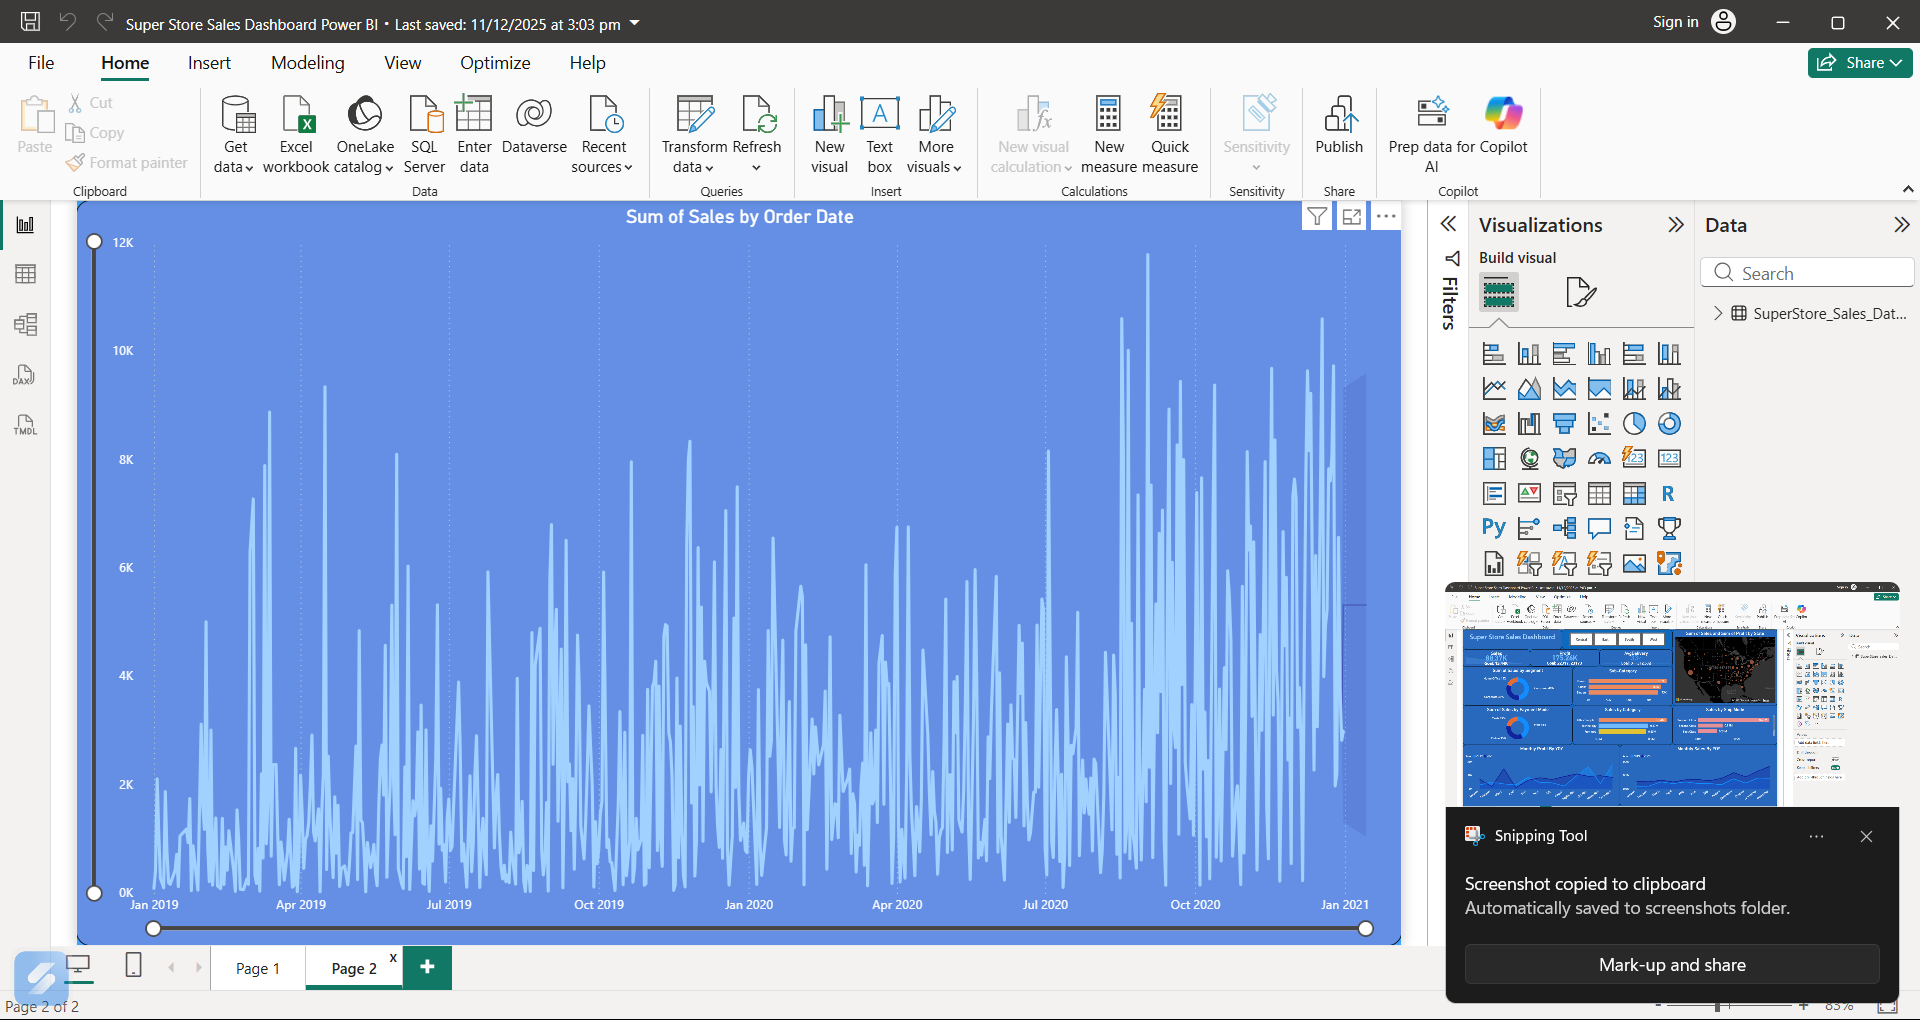

What the dashboard file says about the page in this screenshot:
{"tool":"powerbi","page":{"name":"Page 2","canvas":[1280,720],"ordinal":1},"visuals":[{"type":"lineChart","fields":{"Y":["Sum(SuperStore_Sales_Dataset.Sales)"],"Category":["SuperStore_Sales_Dataset.Order Date"]},"box":[0,0,1280,720],"z":1000}]}

Visuals, with their boxes on the page's 1280x720 design canvas (x1, y1, x2, y2). These are canvas units, not pixel positions in the 1920x1020 screenshot, which may show the page scaled, cropped or inside an application window:
lineChart - Sum(SuperStore_Sales_Dataset.Sales) x SuperStore_Sales_Dataset.Order Date: {"left": 0, "top": 0, "right": 1280, "bottom": 720}
